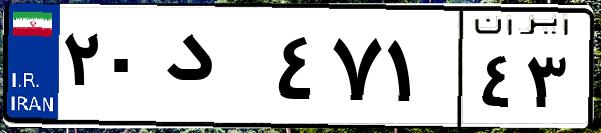0: (110, 28, 158, 98)
1: (385, 28, 445, 110)
2: (57, 26, 110, 100)
3: (525, 38, 570, 115)
4: (270, 28, 330, 110), (475, 38, 525, 113)
7: (330, 28, 385, 110)
د: (158, 20, 270, 120)
